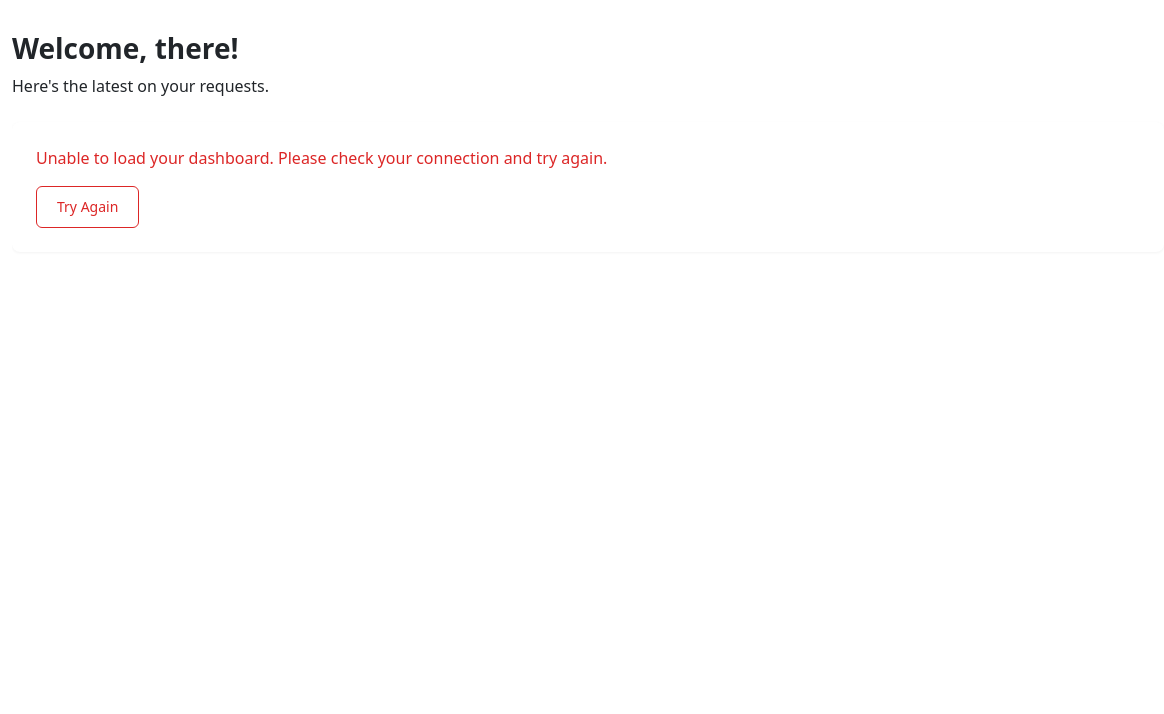
Test: Feature 19 requester dashboard UI › UI-01: shows a safe error and retries without overlapping requests
The width and height of the screenshot is (1164, 714).
Expected: the message shows "Unable to load your dashboard", left=36, top=147, right=607, bottom=169
Click the button "Try Again".
click(88, 207)  # box left=36, top=186, right=139, bottom=228
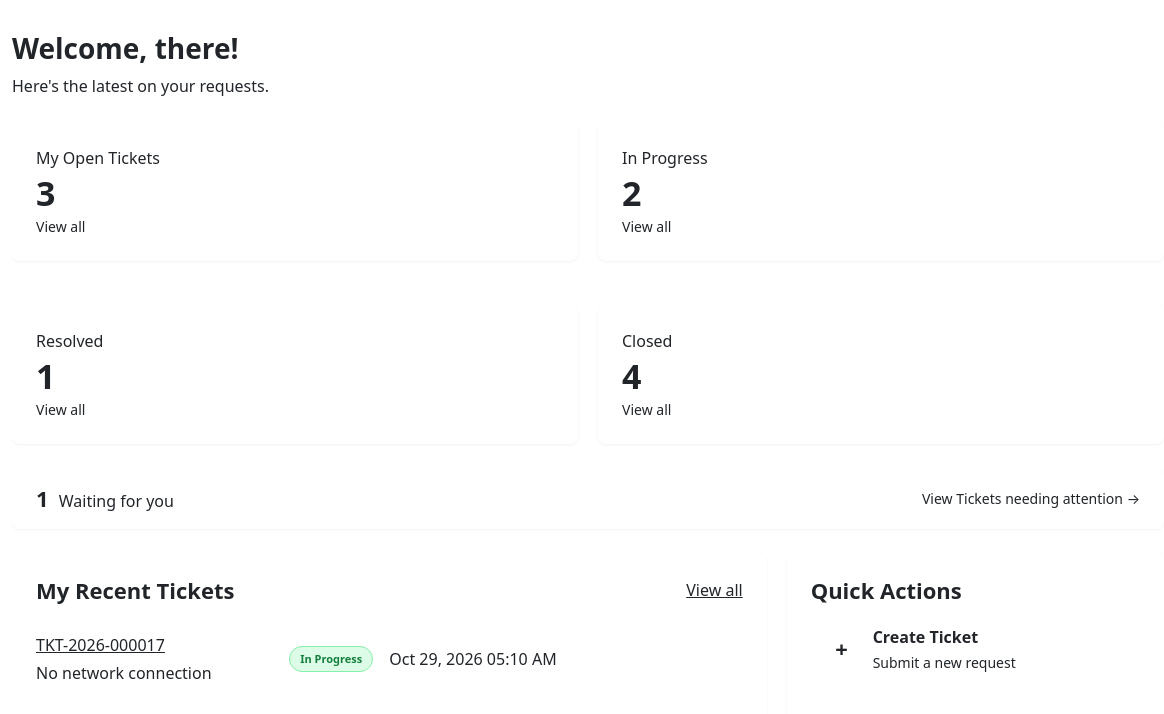
Expected: the link with aria-label "My Open Tickets: 3" is shown, left=12, top=122, right=578, bottom=261
